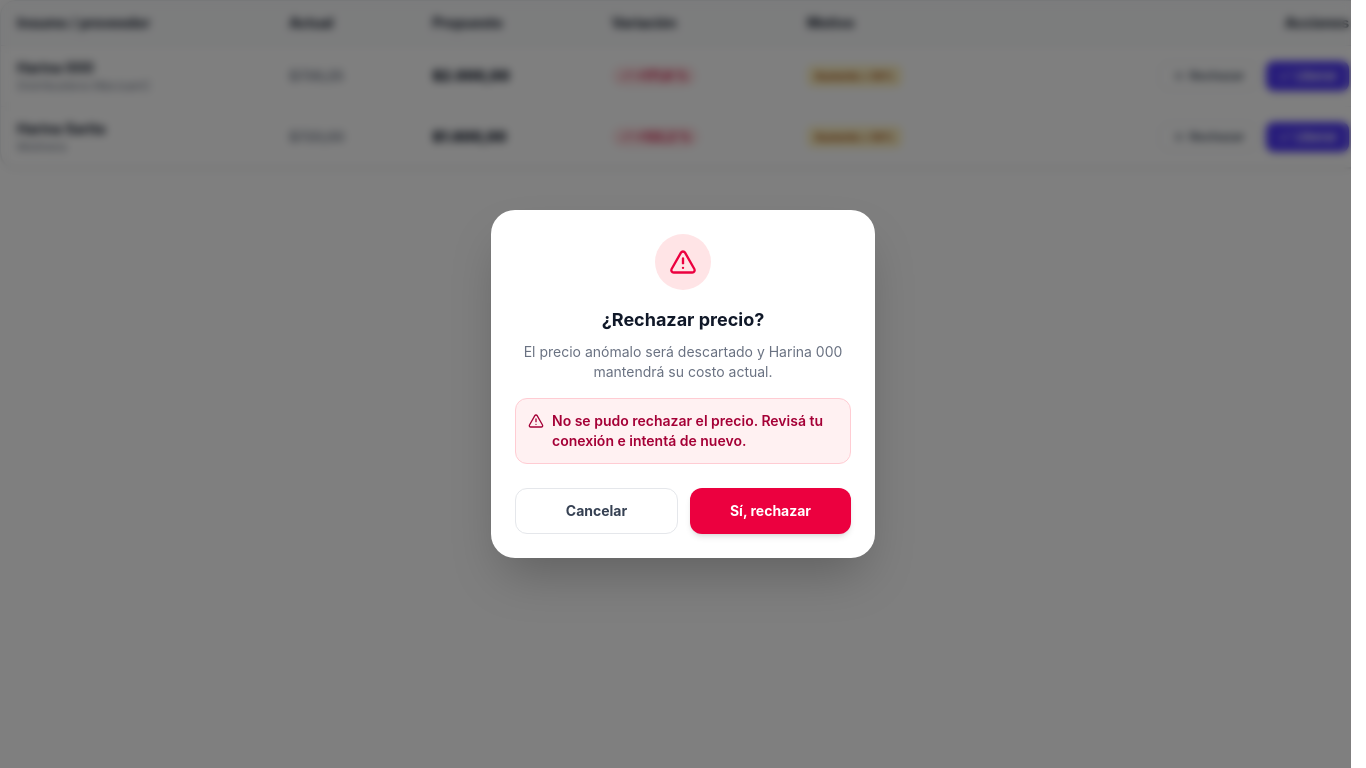
Test case: QuarantineList › Escenario Gherkin: error al liberar o rechazar › al reintentar con éxito el error desaparece y el diálogo se cierra con la confirmación
Earlier steps of the test are not shown.
Expected: the message "No se pudo rechazar el precio. Revisá tu conexión e intentá de nuevo." is shown, [515,398,851,464]
Click the button "Sí, rechazar" at (770, 511), box [690,488,851,534]
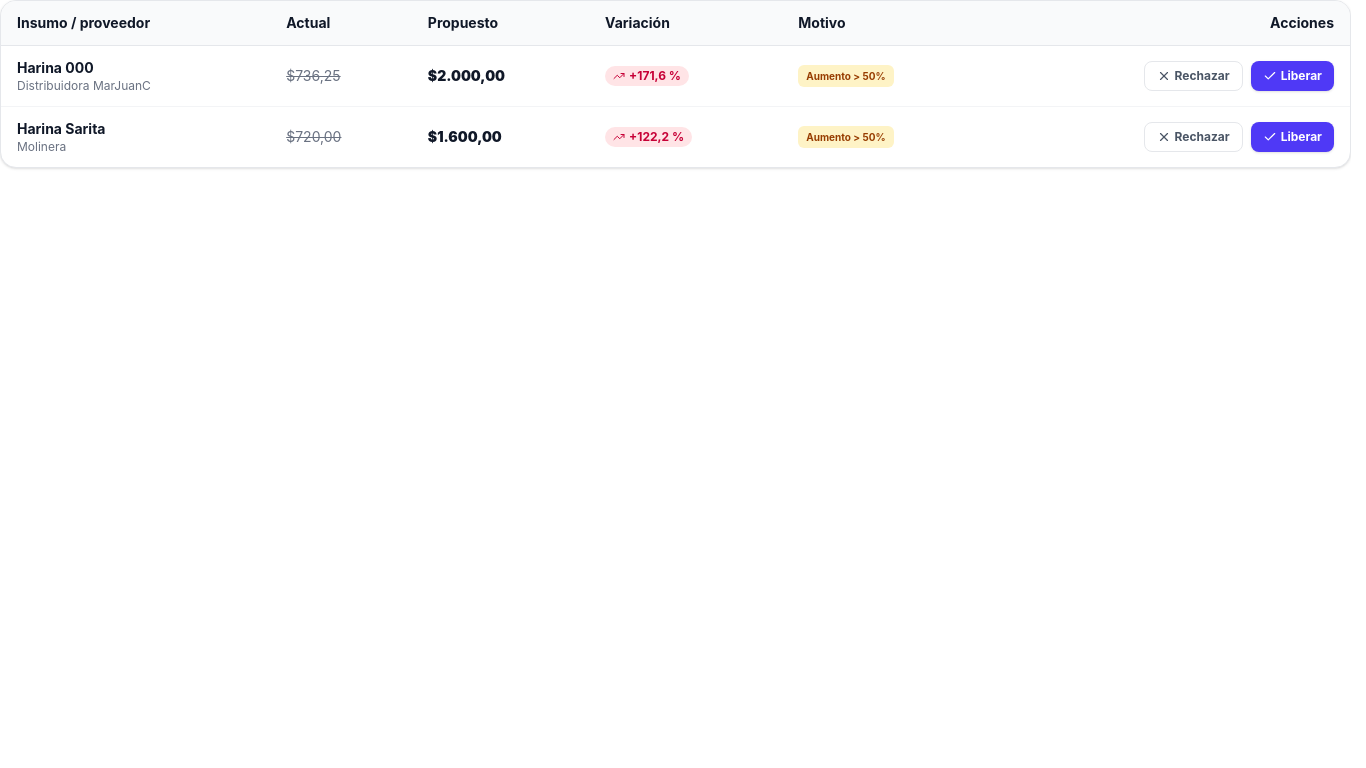
Result: the message "No se pudo rechazar el precio. Revisá tu conexión e intentá de nuevo." is gone
